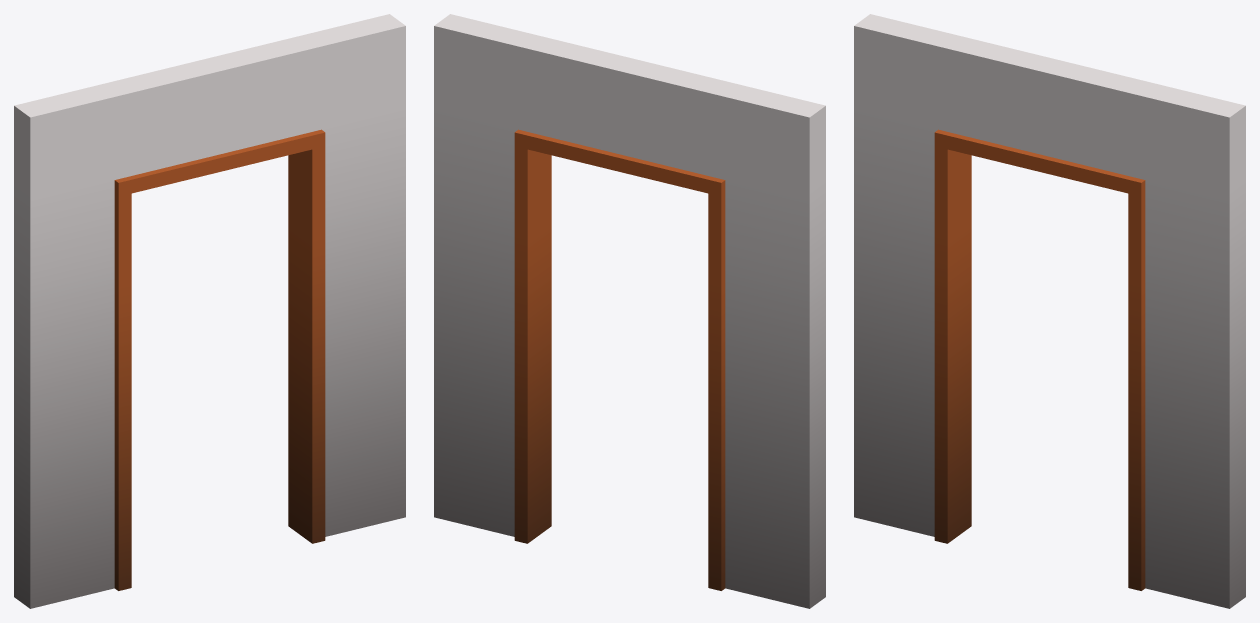
Rendered from WallDoor.gltf.
The picture shows the model from 3 angles, left to right: view 1: azimuth 30°, elevation 25°; view 2: azimuth 150°, elevation 25°; view 3: azimuth 330°, elevation 25°; orthographic projection.
Visible parts, largest first — view 1: WallDoor; view 2: WallDoor; view 3: WallDoor.
Boxes of the visible parts, x1,y1,x2,y2 form: WallDoor: (14, 14, 405, 608); WallDoor: (434, 14, 825, 608); WallDoor: (854, 14, 1245, 608).
Bounding box in the file's own units: 2 × 2.5 × 0.2208.
1 material, 1 textured.
